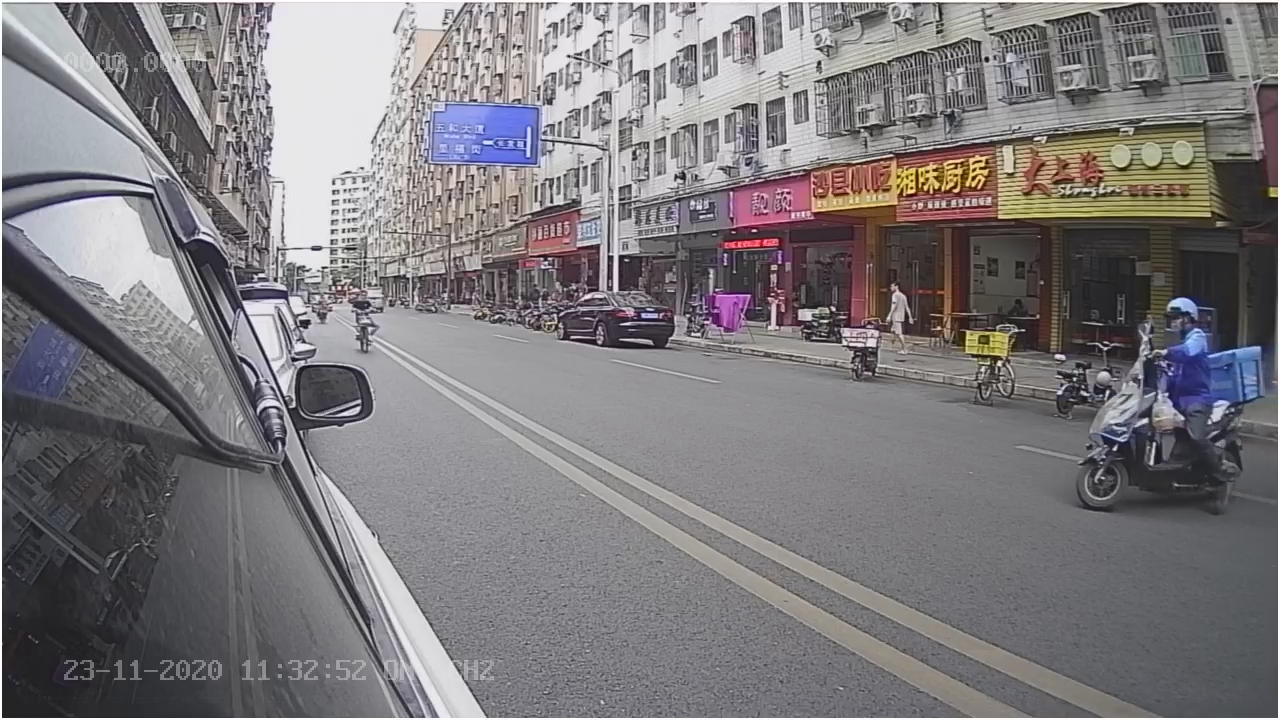person: (1147, 284, 1215, 396)
